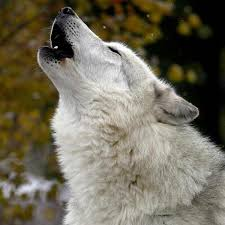wolf: (29, 3, 223, 225)
